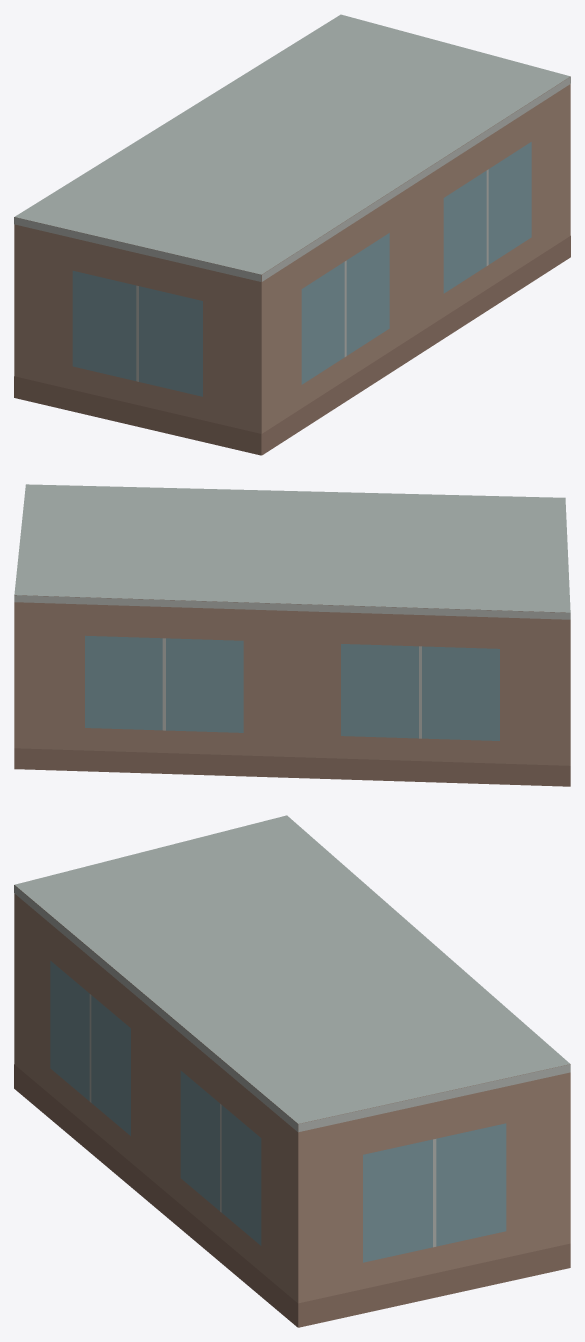
The model's file is survey-upis-32638581.glb.
3 views of the same model, one above another, from view 1: azimuth 30°, elevation 25°; view 2: azimuth 150°, elevation 25°; view 3: azimuth 270°, elevation 25° (orthographic). The views are drawn at different scales.
Visible parts, largest first — view 1: survey-upis-32638581.tmp; view 2: survey-upis-32638581.tmp; view 3: survey-upis-32638581.tmp.
Part boxes in pixels (box(x1,y1,x2,y2)): survey-upis-32638581.tmp: box(14, 14, 570, 455); survey-upis-32638581.tmp: box(14, 484, 570, 786); survey-upis-32638581.tmp: box(14, 815, 570, 1327).
Size of the model in its own units: 9.92 by 3.05 by 7.56.
